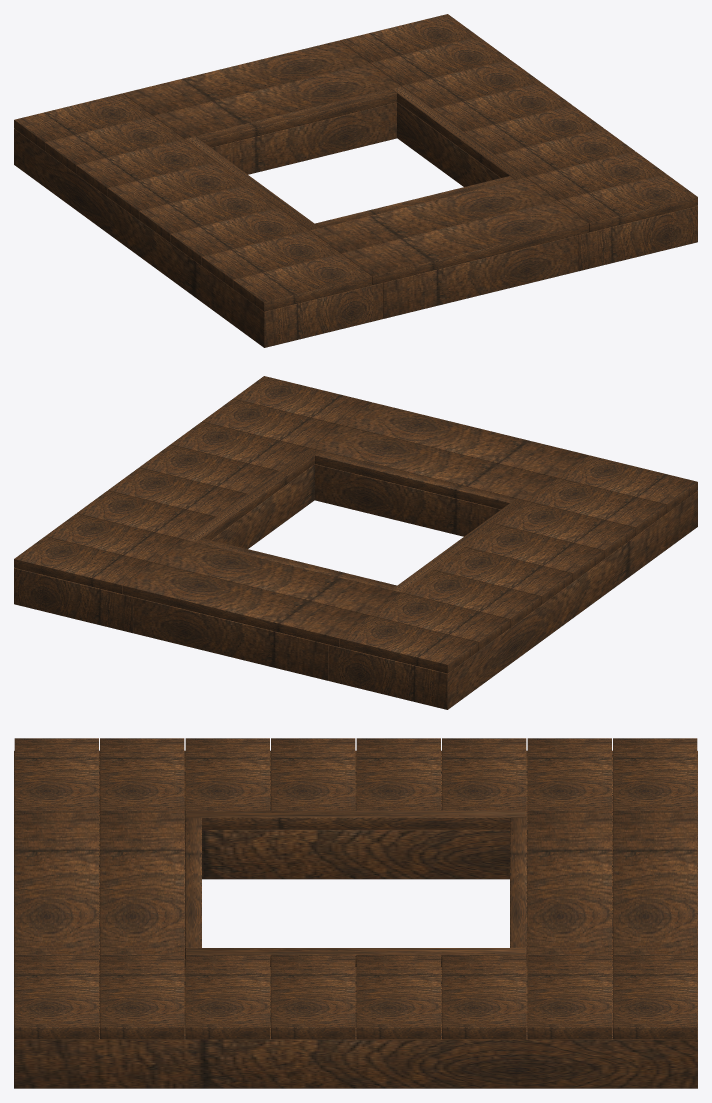
File: SM_MoleControlV2_OakHatch200.fbx
3 views of the same model, one above another, from view 1: azimuth 30°, elevation 25°; view 2: azimuth 150°, elevation 25°; view 3: azimuth 270°, elevation 25° (orthographic). The views are drawn at different scales.
Visible parts, largest first — view 1: SM_MoleControlV2_OakHatch200; view 2: SM_MoleControlV2_OakHatch200; view 3: SM_MoleControlV2_OakHatch200.
Boxes of the visible parts, x1,y1,x2,y2 form: SM_MoleControlV2_OakHatch200: [14, 14, 697, 347]; SM_MoleControlV2_OakHatch200: [14, 376, 697, 709]; SM_MoleControlV2_OakHatch200: [14, 738, 697, 1088].
Size of what is drawn, in the model's own units: 200 by 200 by 20.
